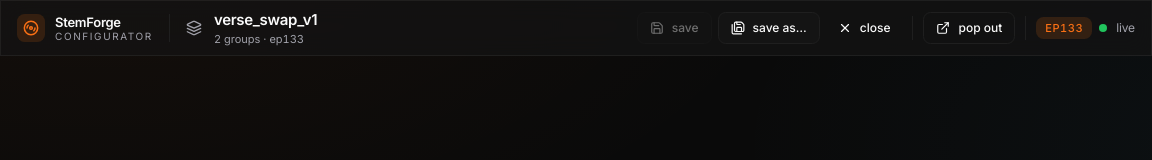
Test: TopBar › hovering Save surfaces the COMMIT-action tooltip
Hover over the element with test id "top-bar-save-wrap" at [674, 28], box [637,12,712,44]
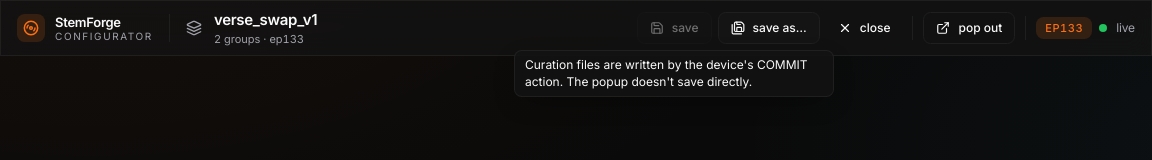
expect the tooltip "Curation files are written by the device's COMMIT action. The popup doesn't save directly." is shown: met, box [525,57,808,88]
